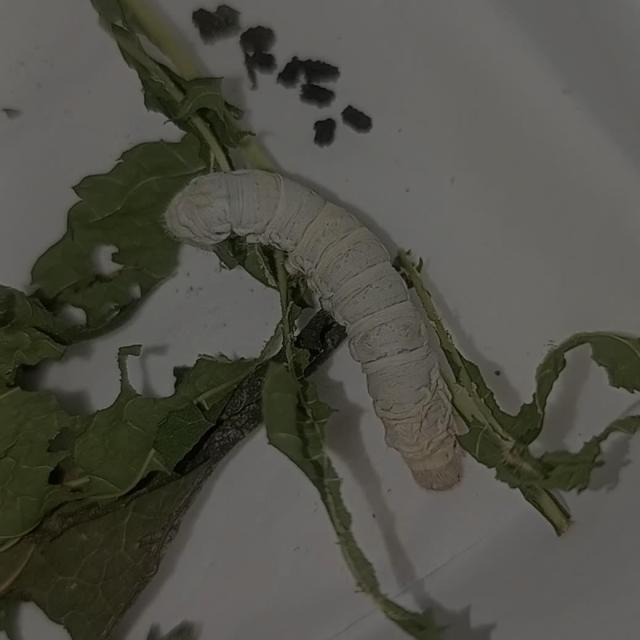Healthy: (159, 152, 476, 498)
